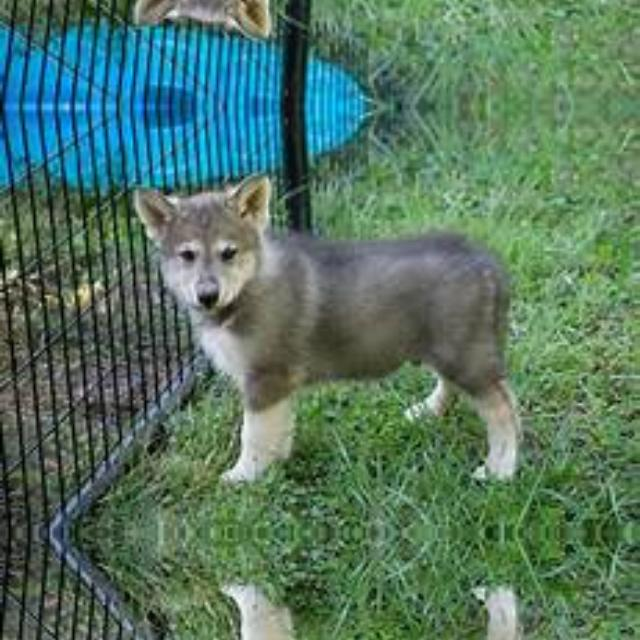dog: (136, 165, 524, 513), (135, 552, 524, 640), (135, 0, 524, 47)
